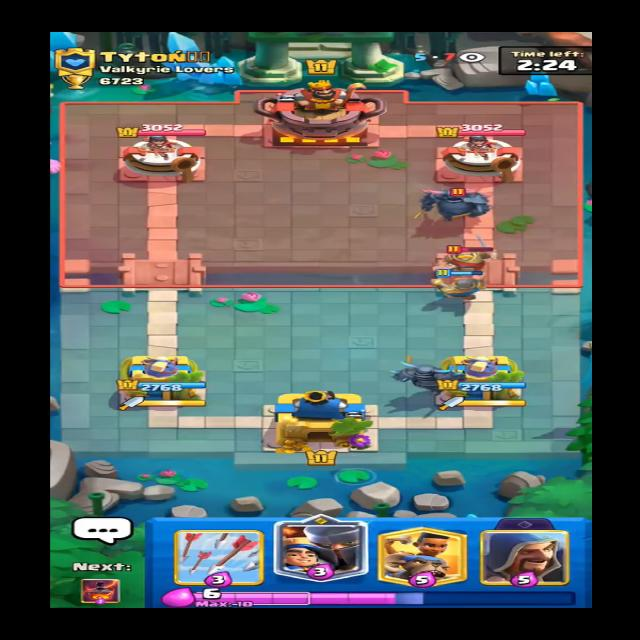knight: (436, 244, 510, 280)
pekka: (416, 182, 497, 222)
